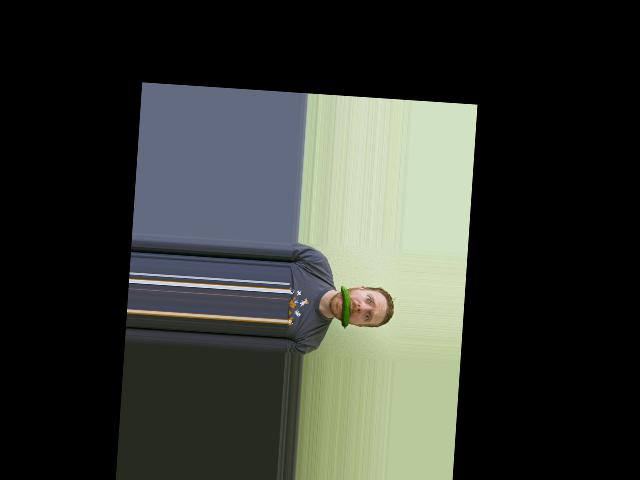cucumber: (337, 285, 351, 328)
